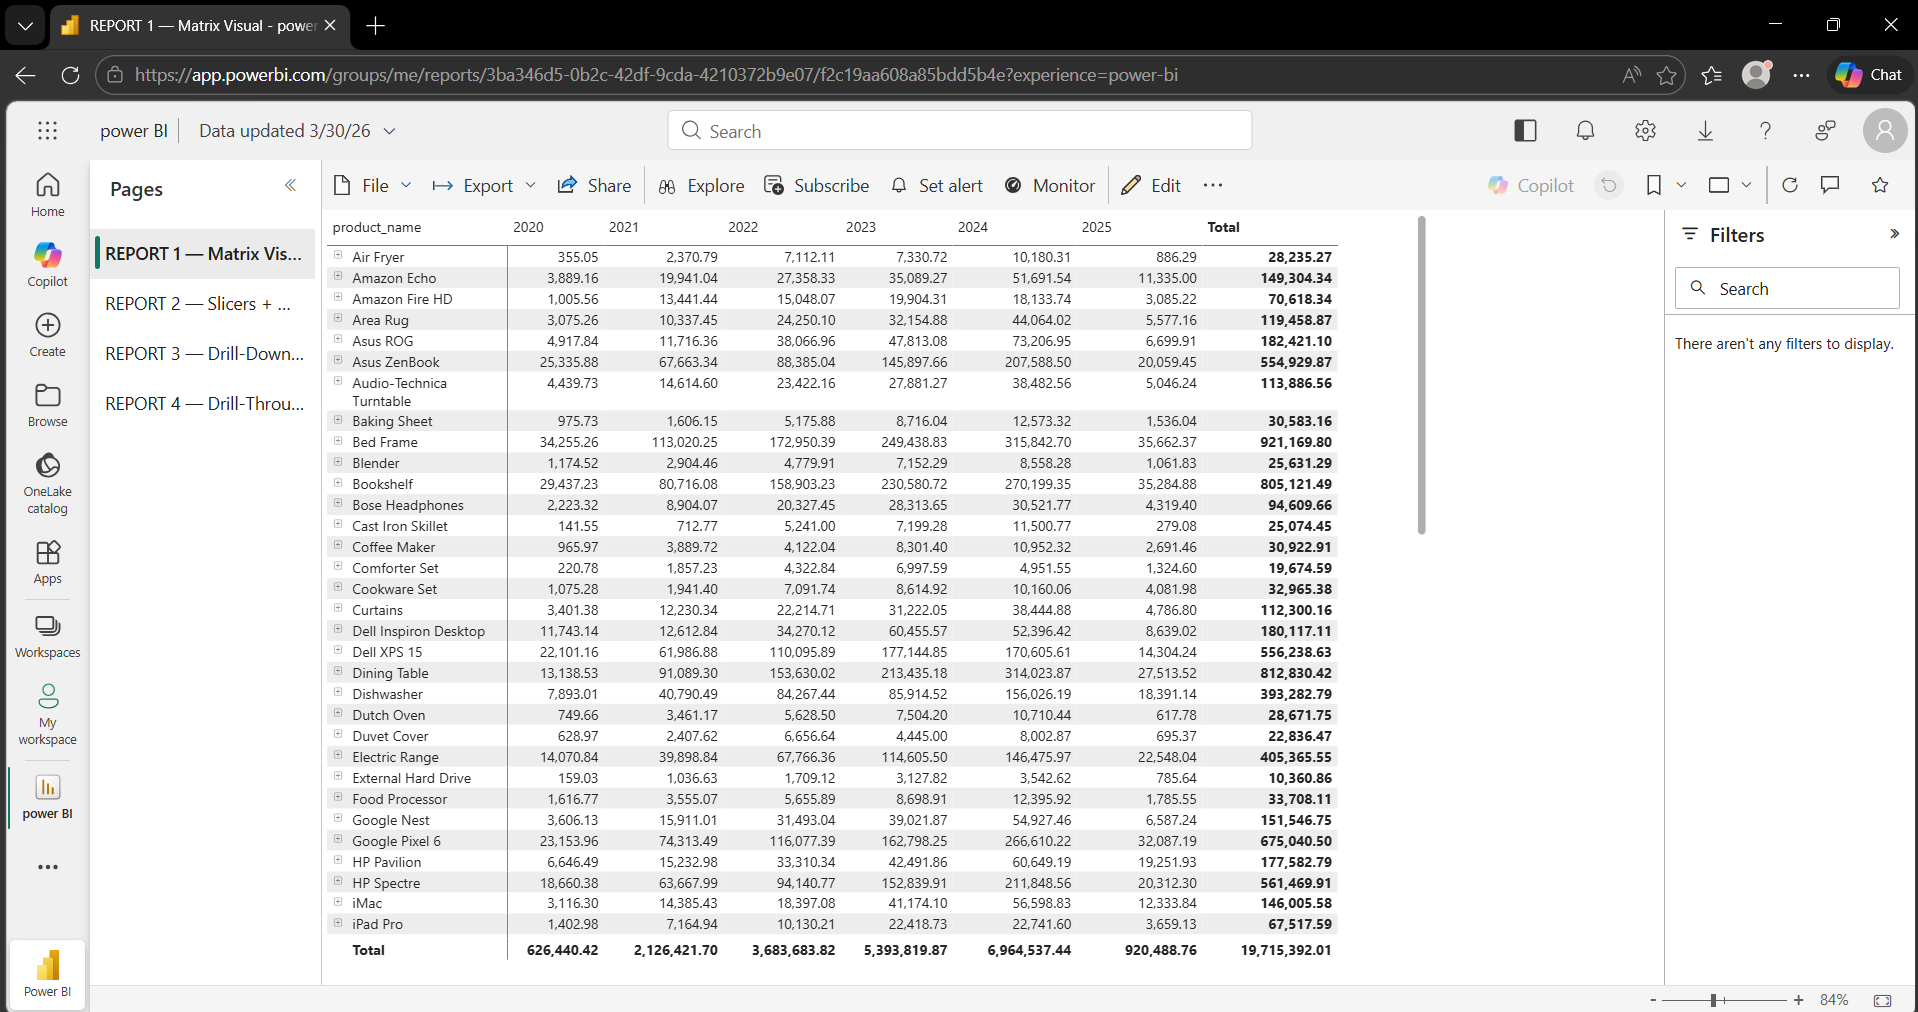

The dashboard page shown, as its layout file describes it:
{"tool":"powerbi","page":{"name":"REPORT 1 — Matrix Visual","canvas":[1280,720],"ordinal":0},"visuals":[{"type":"pivotTable","fields":{"Rows":["DimProduct.product_name","DimProduct.product_category"],"Columns":["DimDate.CalendarYear"],"Values":["Sum(FactSales.price)"]},"box":[0,0,1058.6,720],"z":0}]}

Visuals, with their boxes on the page's 1280x720 design canvas (x1, y1, x2, y2). These are canvas units, not pixel positions in the 1918x1012 screenshot, which may show the page scaled, cropped or inside an application window:
pivotTable - DimProduct.product_name x DimProduct.product_category: [0, 0, 1059, 720]
